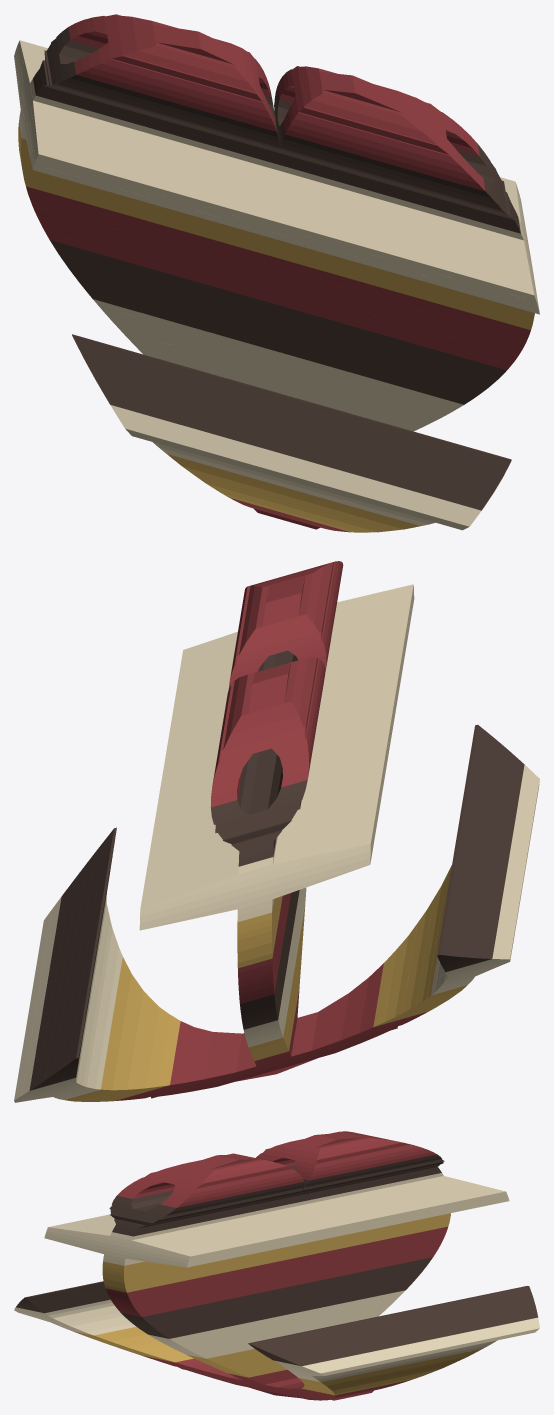
File: anchor_heart_prop.glb
The picture shows the model from 3 angles, top to bottom: view 1: azimuth 30°, elevation 25°; view 2: azimuth 150°, elevation 25°; view 3: azimuth 270°, elevation 25°; orthographic projection. The views are drawn at different scales.
Visible parts, largest first — view 1: anchor_heart_prop; view 2: anchor_heart_prop; view 3: anchor_heart_prop.
Part boxes in pixels (bbox=[...]): anchor_heart_prop: bbox=[14, 14, 539, 532]; anchor_heart_prop: bbox=[14, 561, 539, 1102]; anchor_heart_prop: bbox=[14, 1131, 539, 1400].
Size of the model in its own units: 1.88 by 2 by 3.85.
